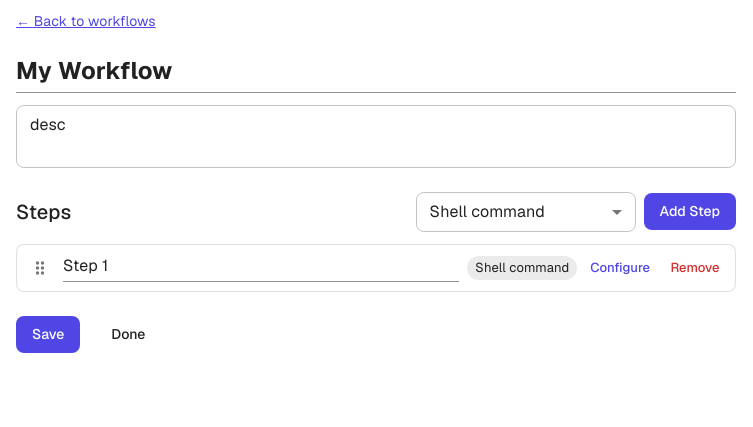
Test: WorkflowEditor page › adds a new step via the Add Step menu
Check: the field showing "Step 1" next to "Shell command" is shown, box x1=63 y1=253 x2=459 y2=282
Click the button "Add Step": (690, 212) x1=644 y1=193 x2=736 y2=230
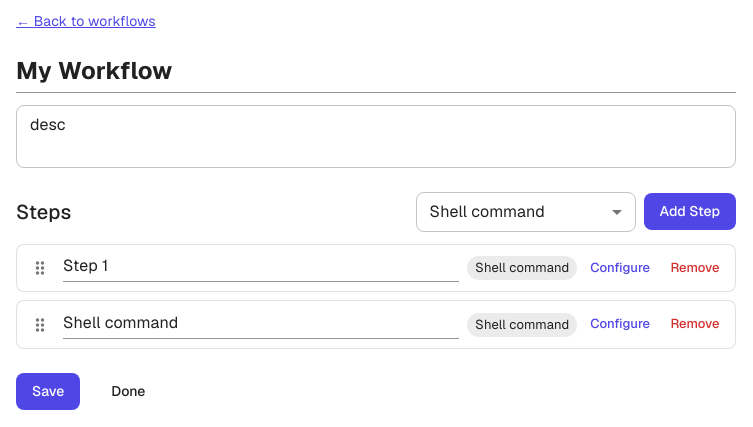
Check: the number of buttons "Configure" is 2, box x1=585 y1=252 x2=655 y2=283; x1=585 y1=309 x2=655 y2=340
